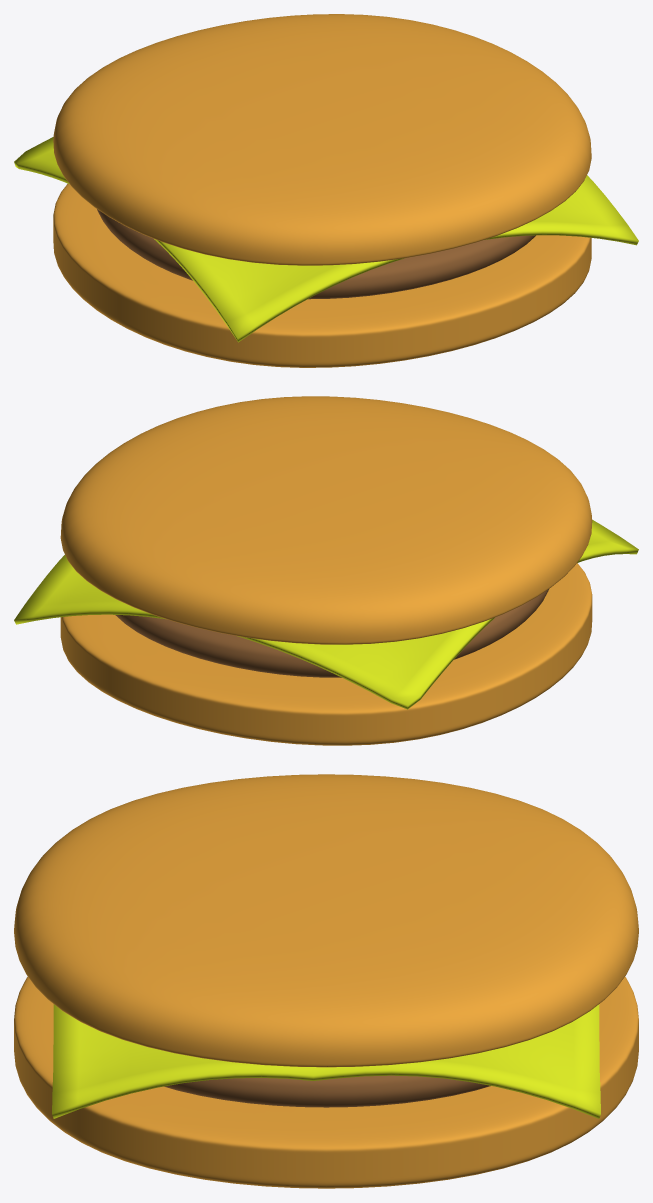
The model's file is Hamburger.glb.
The picture shows the model from 3 angles, top to bottom: view 1: azimuth 30°, elevation 25°; view 2: azimuth 150°, elevation 25°; view 3: azimuth 270°, elevation 25°; orthographic projection. The views are drawn at different scales.
Visible parts, largest first — view 1: Cube.002, Cube, Plane, Cube.001; view 2: Cube.002, Cube, Plane, Cube.001; view 3: Cube.002, Cube, Plane, Cube.001.
Boxes of the visible parts, <box> form: Cube.002: <box>53,14,591,265</box>; Cube: <box>53,184,591,367</box>; Plane: <box>14,137,638,342</box>; Cube.001: <box>97,209,535,299</box>; Cube.002: <box>60,396,592,644</box>; Cube: <box>60,563,592,745</box>; Plane: <box>14,520,638,709</box>; Cube.001: <box>115,589,548,677</box>; Cube.002: <box>14,774,638,1067</box>; Cube: <box>14,976,638,1188</box>; Plane: <box>52,1004,600,1118</box>; Cube.001: <box>164,1075,490,1107</box>.
Bounding box in the file's own units: 9.17 × 3.09 × 9.17.
